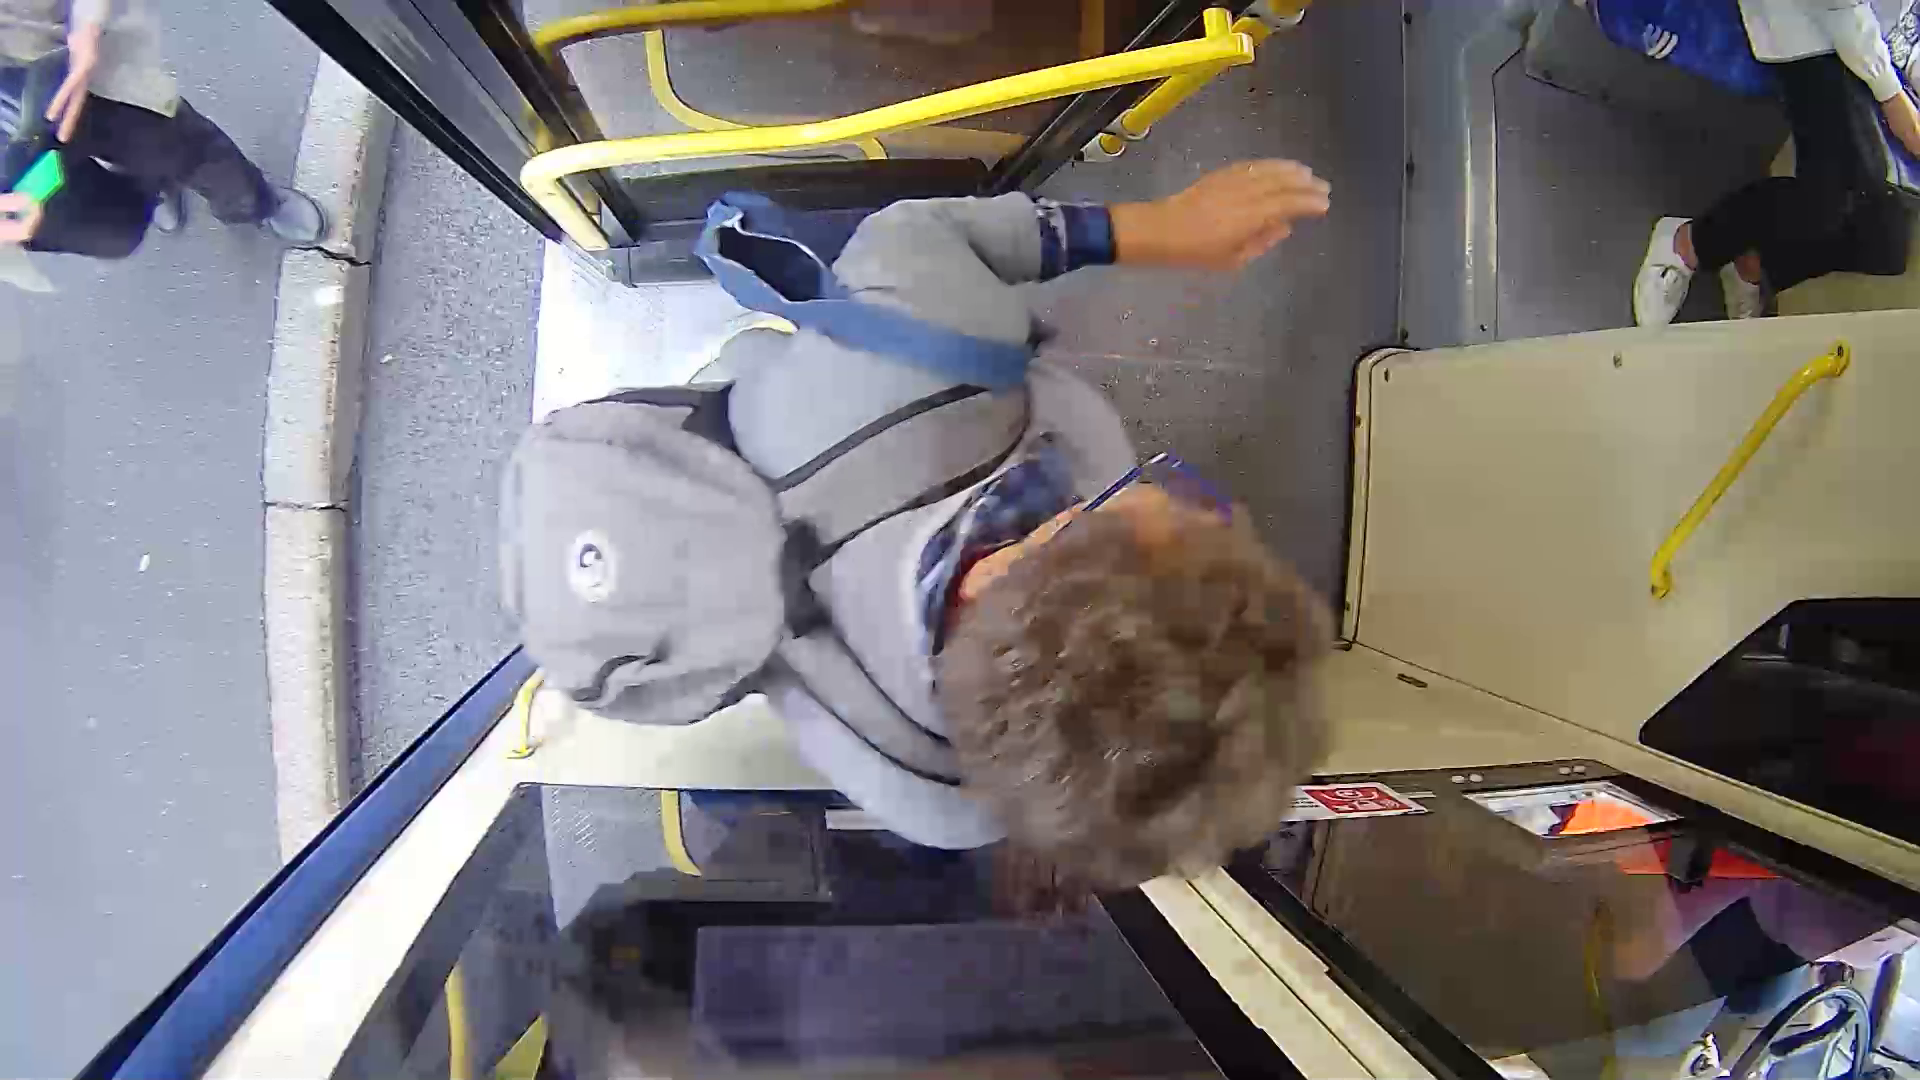person: (500, 168, 1411, 865)
